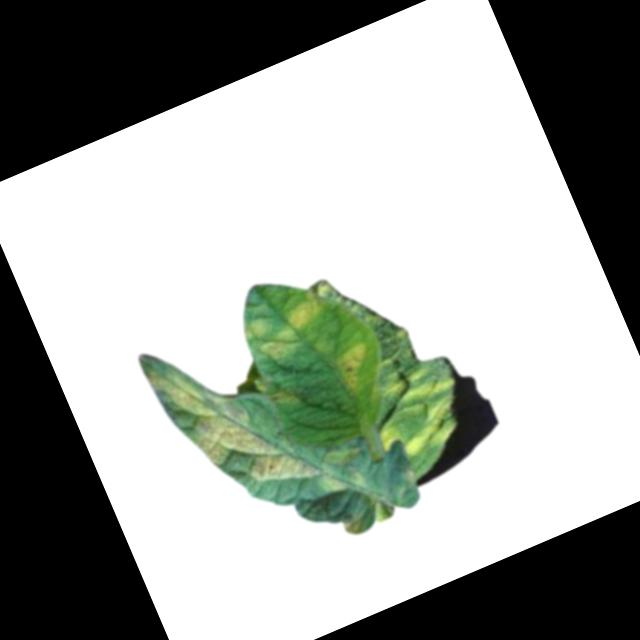Leaf_Mold: (145, 327, 319, 523), (358, 358, 471, 466), (237, 291, 336, 374), (327, 337, 382, 394), (339, 510, 366, 538)
